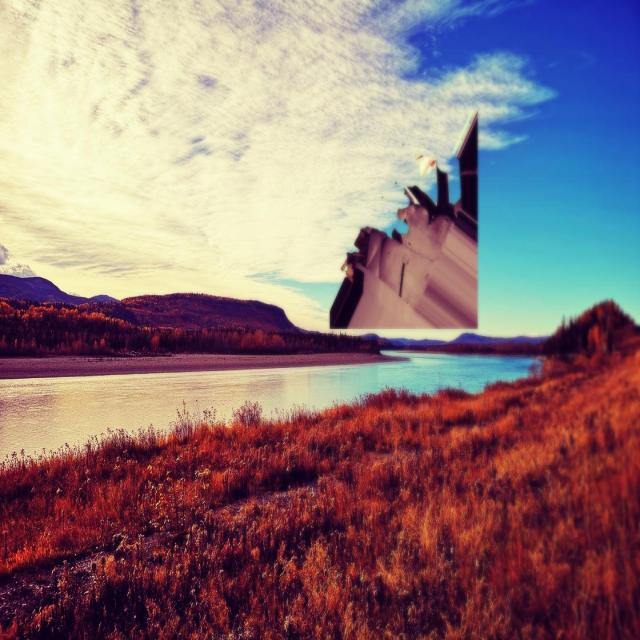airplane: (329, 110, 479, 330)
